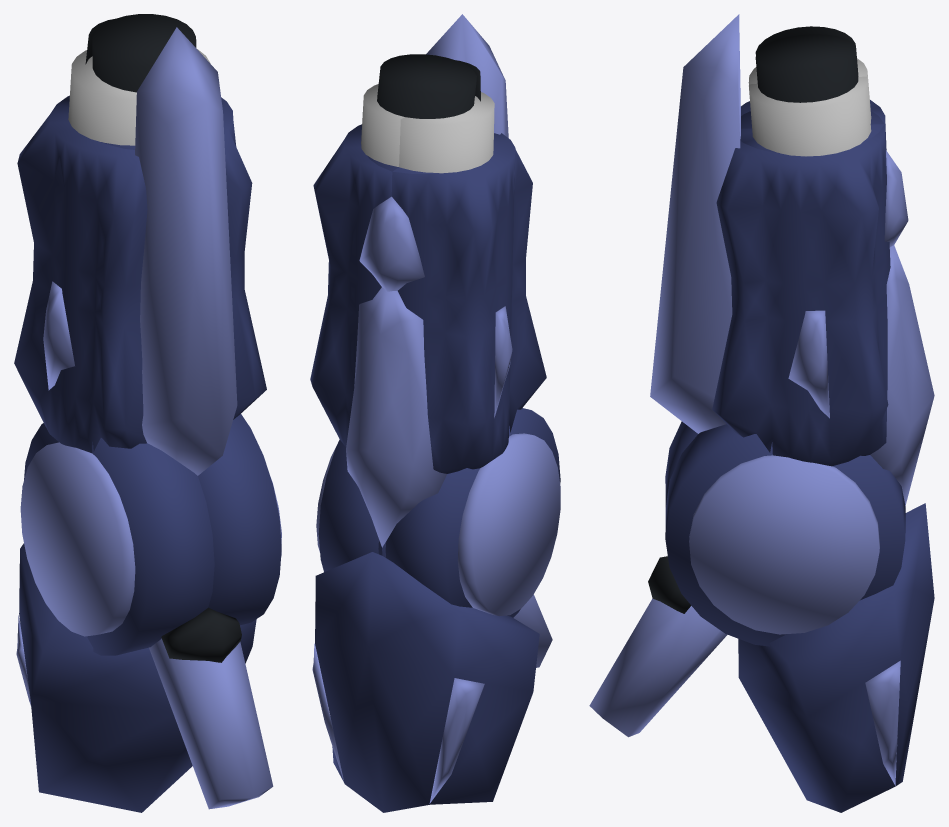
The model's file is grenadeLauncher.fbx.
The picture shows the model from 3 angles, left to right: view 1: azimuth 30°, elevation 25°; view 2: azimuth 150°, elevation 25°; view 3: azimuth 270°, elevation 25°; orthographic projection. The views are drawn at different scales.
Parts seen in each view (by area): view 1: s.0068, s.0075, s.0078, p.0072_Mirrored, p.0073_Mirrored, s.0079, p.0073, p.0065, p.0066_Mirrored, s.0093, s.0091_Mirrored; view 2: s.0068, s.0078, s.0081, p.0072_Mirrored, p.0073_Mirrored, p.0065, p.0066_Mirrored, p.0073, s.0085, s.0075, s.0088_Mirrored, p.0066 (+3 smaller); view 3: s.0068, s.0078, p.0072, s.0075, p.0073, s.0079, s.0081, p.0066, p.0065, s.0091, s.0088, s.0085 (+3 smaller).
Boxes of the visible parts, x1,y1,x2,y2 form: s.0068: (14,95,266,453); s.0075: (135,27,237,475); s.0078: (19,543,256,812); p.0072_Mirrored: (20,442,135,636); p.0073_Mirrored: (24,423,214,655); s.0079: (149,638,273,809); p.0073: (198,414,281,625); p.0065: (92,14,196,92); p.0066_Mirrored: (68,50,136,145); s.0093: (161,607,241,662); s.0091_Mirrored: (43,281,74,390); s.0068: (310,124,546,473); s.0078: (315,552,539,812); s.0081: (346,287,446,547); p.0072_Mirrored: (457,433,560,616); p.0073_Mirrored: (378,408,560,617); p.0065: (377,54,476,118); p.0066_Mirrored: (399,92,494,173); p.0073: (318,439,386,571); s.0085: (359,196,424,291); s.0075: (426,14,508,137); s.0088_Mirrored: (429,678,484,803); p.0066: (361,84,404,166); s.0068: (712,100,890,466); s.0078: (738,503,934,812); p.0072: (689,455,879,634); s.0075: (650,14,740,433); p.0073: (665,424,905,646); s.0079: (589,598,727,737); s.0081: (870,245,934,505); p.0066: (749,76,871,156); p.0065: (755,34,858,102); s.0091: (788,310,829,418); s.0088: (865,660,900,785); s.0085: (884,150,908,247).
Bounding box in the file's own units: 0.1295 × 0.18 × 0.4525.
